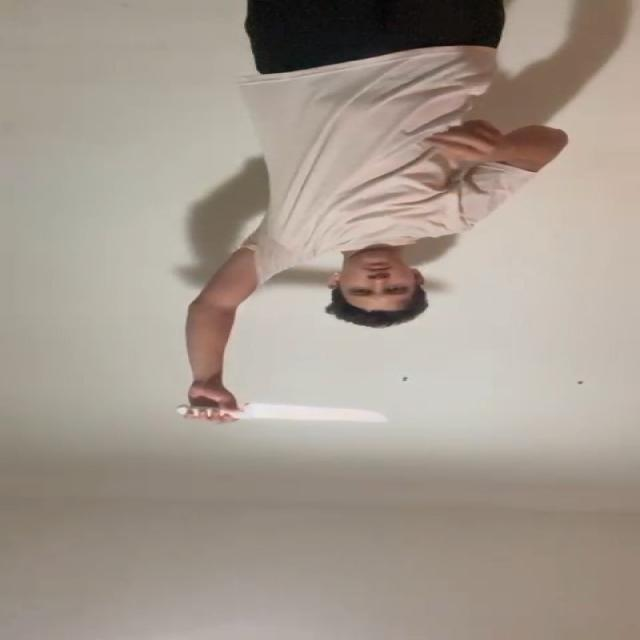knife: (246, 405, 392, 425)
